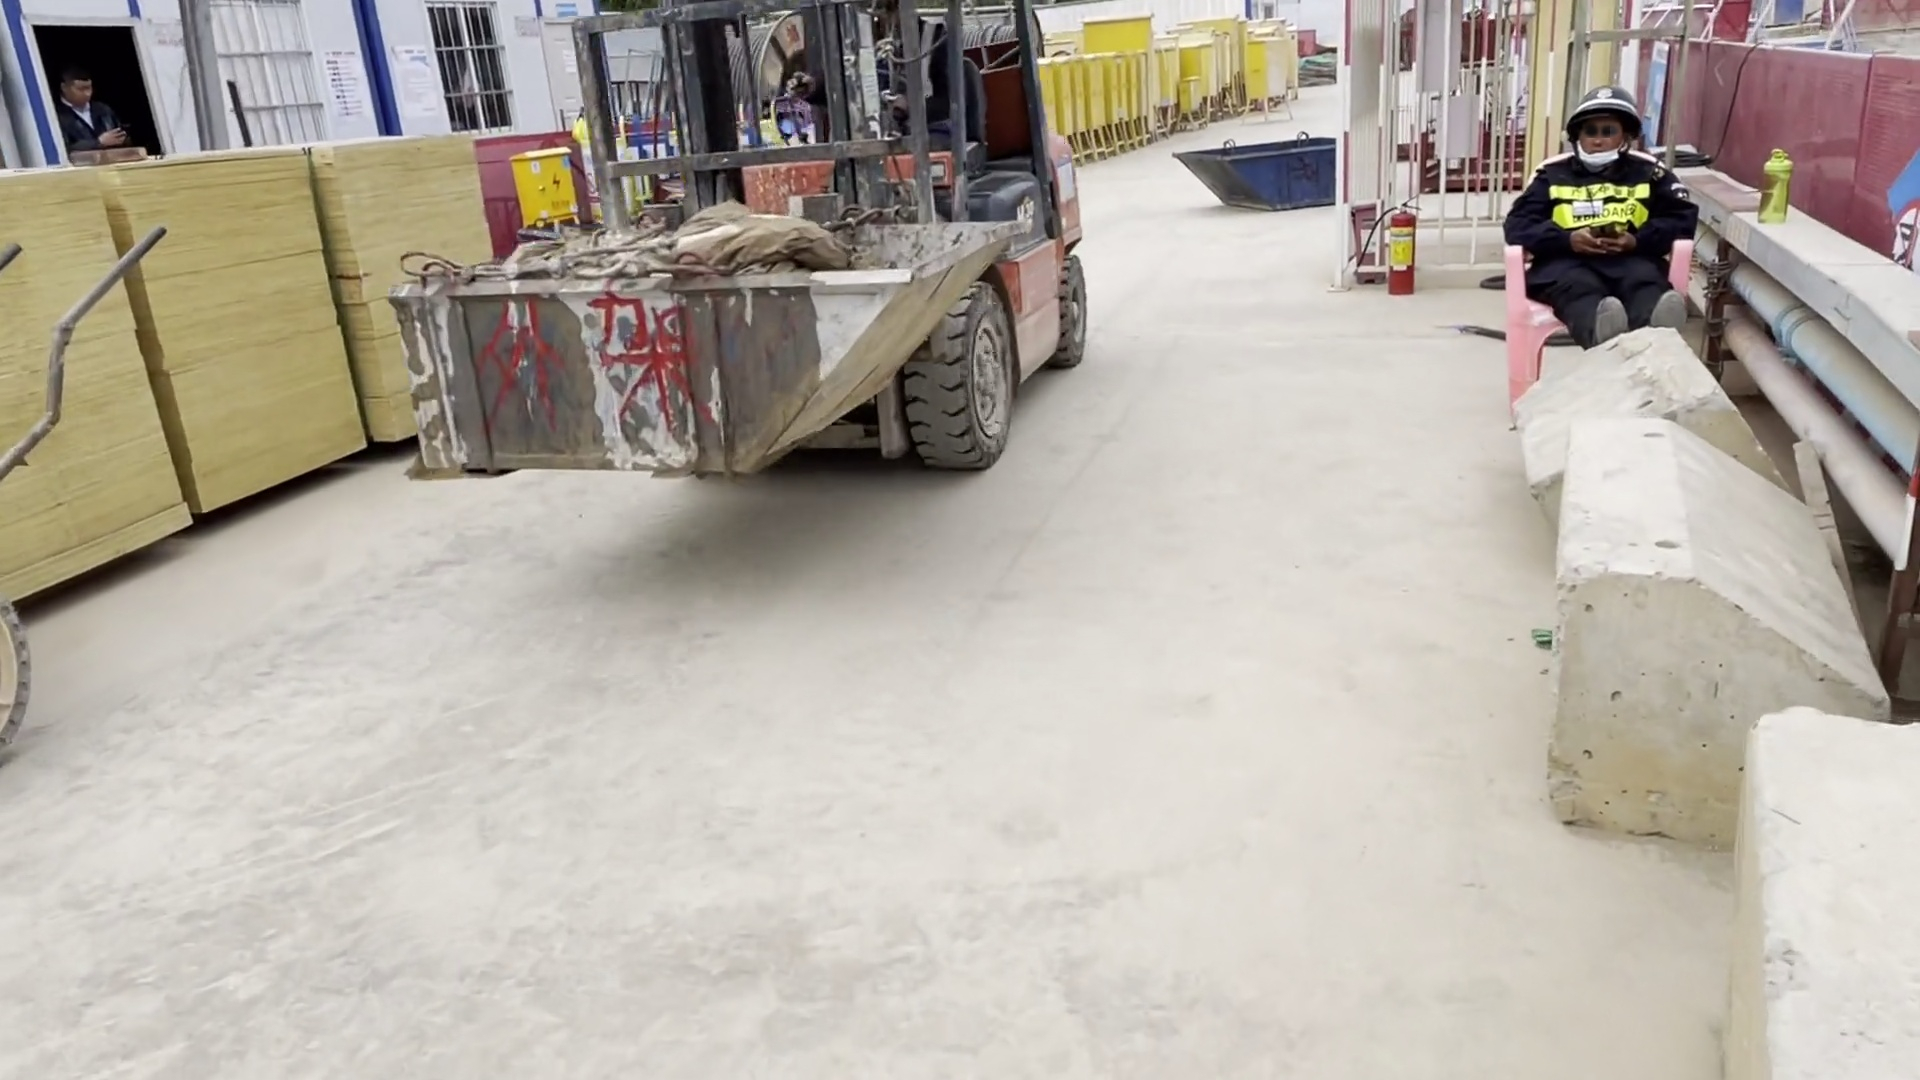ebox: (516, 135, 581, 231), (1241, 37, 1289, 122), (1176, 78, 1202, 133)
helmet: (1569, 78, 1645, 127)
hopper: (396, 235, 1000, 487), (1174, 139, 1337, 219)
person: (1518, 79, 1703, 341)
vest: (1549, 165, 1662, 239)
